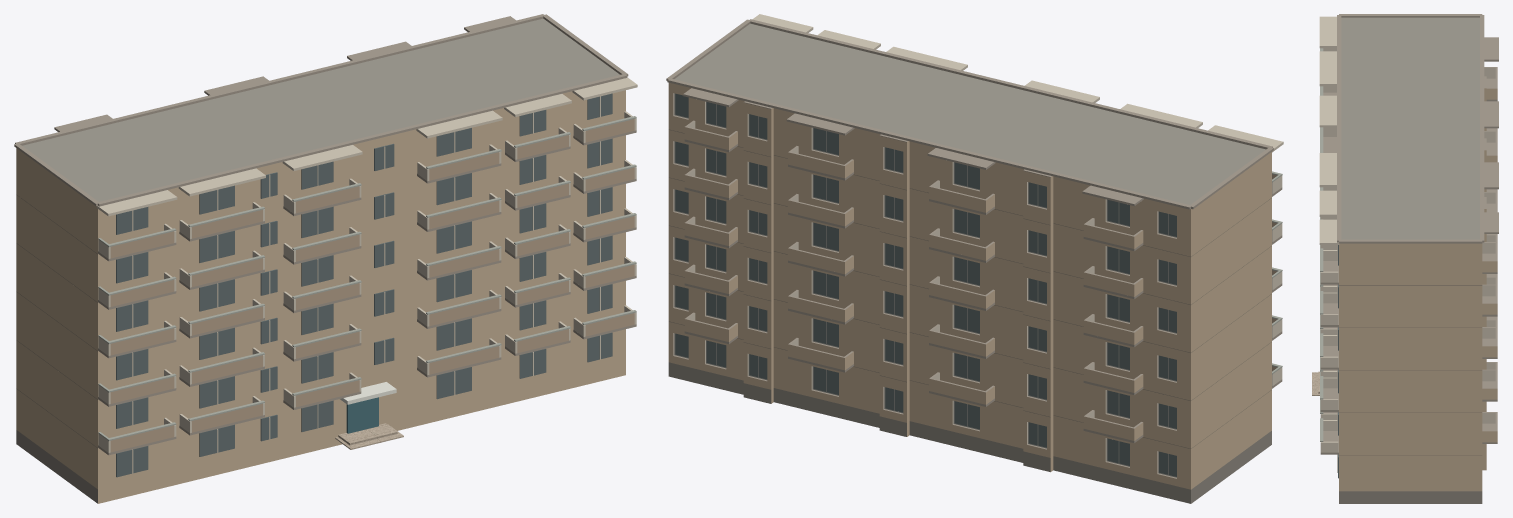
Rendered from chunk-dorm-way-759147057.glb.
The picture shows the model from 3 angles, left to right: view 1: azimuth 30°, elevation 25°; view 2: azimuth 150°, elevation 25°; view 3: azimuth 270°, elevation 25°; orthographic projection. The views are drawn at different scales.
Visible parts, largest first — view 1: chunk-dorm-way-759147057; view 2: chunk-dorm-way-759147057; view 3: chunk-dorm-way-759147057.
Part boxes in pixels (x1,y1,x2,y2): chunk-dorm-way-759147057: [14, 14, 637, 503]; chunk-dorm-way-759147057: [666, 14, 1283, 503]; chunk-dorm-way-759147057: [1312, 14, 1498, 503].
Bounding box in the file's own units: 37.91 × 20.45 × 13.15.
Materials: 13 (1 with a texture image).
